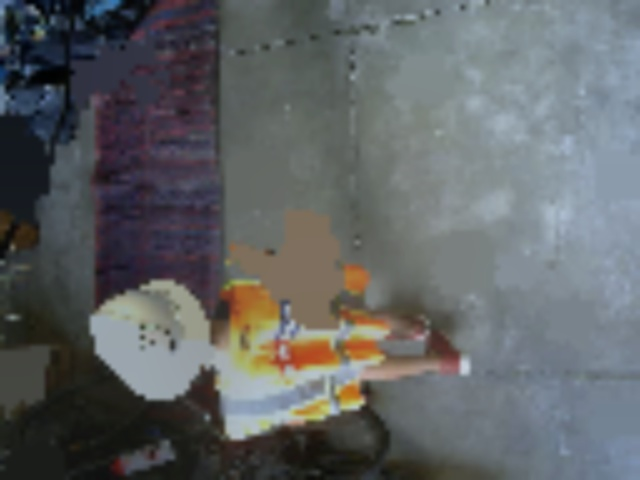three: (129, 324, 173, 363)
